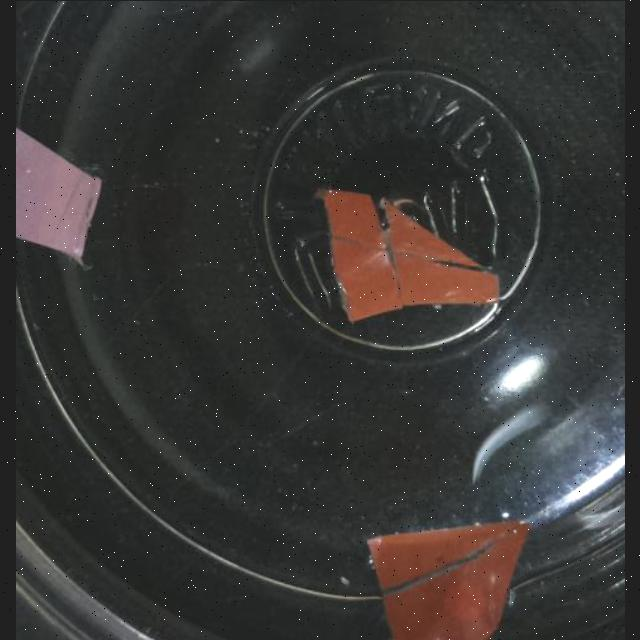Fragment: (315, 186, 499, 320), (369, 517, 528, 640), (15, 99, 104, 261)
